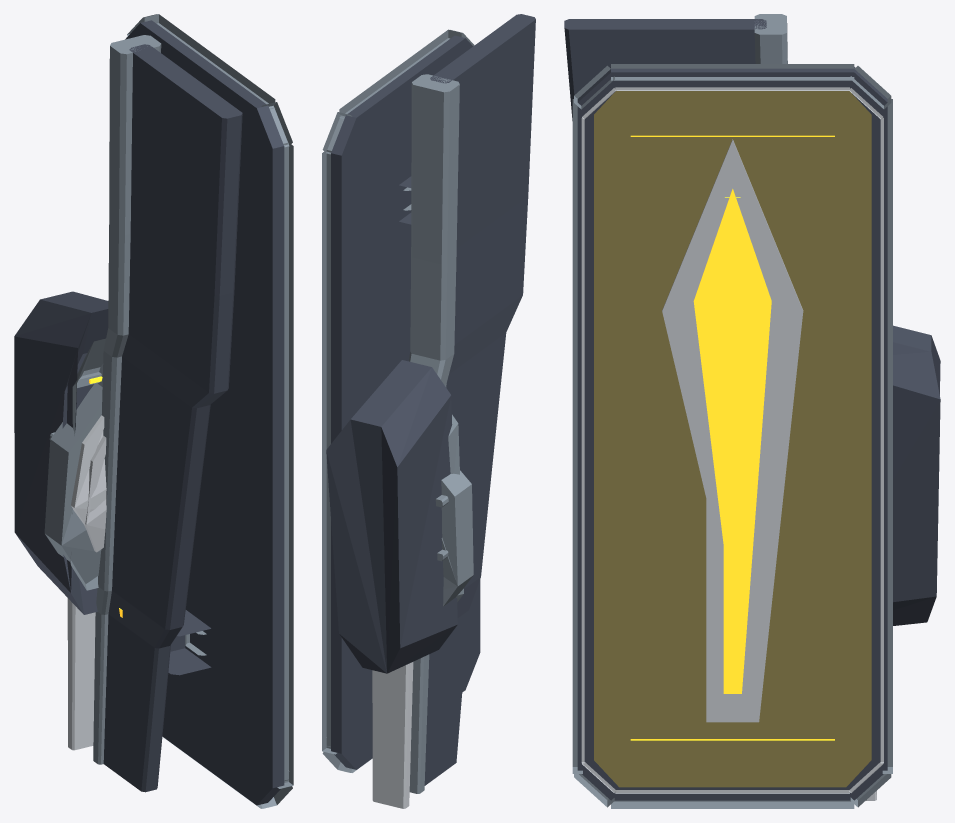
File: LaserShieldArmW_Right_T1.glb
3 views of the same model, side by side, from view 1: azimuth 30°, elevation 25°; view 2: azimuth 150°, elevation 25°; view 3: azimuth 270°, elevation 25° (orthographic). The views are drawn at different scales.
Parts seen in each view (by area): view 1: BasicArmW_Right_Skel_part00, Side Shield Backplate, BasicArmW_Right_Skel_part01, Side Shield Frame, BasicArmW_Right_Skel_part02; view 2: BasicArmW_Right_Skel_part00, BasicArmW_Right_Skel_part01, Side Shield Backplate, Side Shield Frame, BasicArmW_Right_Skel_part02; view 3: Side Shield Backplate, Full Arm Shield Field (Animated), Upward Arrow Insignia, Upward Arrow Glow, Side Shield Frame, BasicArmW_Right_Skel_part01, BasicArmW_Right_Skel_part00.
Part boxes in pixels (<box>): BasicArmW_Right_Skel_part00: <box>93,35,242,792</box>; Side Shield Backplate: <box>125,20,284,805</box>; BasicArmW_Right_Skel_part01: <box>14,291,108,614</box>; Side Shield Frame: <box>126,14,293,808</box>; BasicArmW_Right_Skel_part02: <box>67,598,122,750</box>; BasicArmW_Right_Skel_part00: <box>409,14,535,793</box>; BasicArmW_Right_Skel_part01: <box>326,360,473,673</box>; Side Shield Backplate: <box>331,35,480,769</box>; Side Shield Frame: <box>322,29,474,772</box>; BasicArmW_Right_Skel_part02: <box>372,662,413,808</box>; Side Shield Backplate: <box>577,67,887,800</box>; Full Arm Shield Field (Animated): <box>594,91,871,786</box>; Upward Arrow Insignia: <box>581,87,883,793</box>; Upward Arrow Glow: <box>630,135,834,740</box>; Side Shield Frame: <box>572,64,892,808</box>; BasicArmW_Right_Skel_part01: <box>893,325,940,625</box>; BasicArmW_Right_Skel_part00: <box>564,14,787,120</box>.
Bounding box in the file's own units: 2.57 × 14.76 × 6.55.
